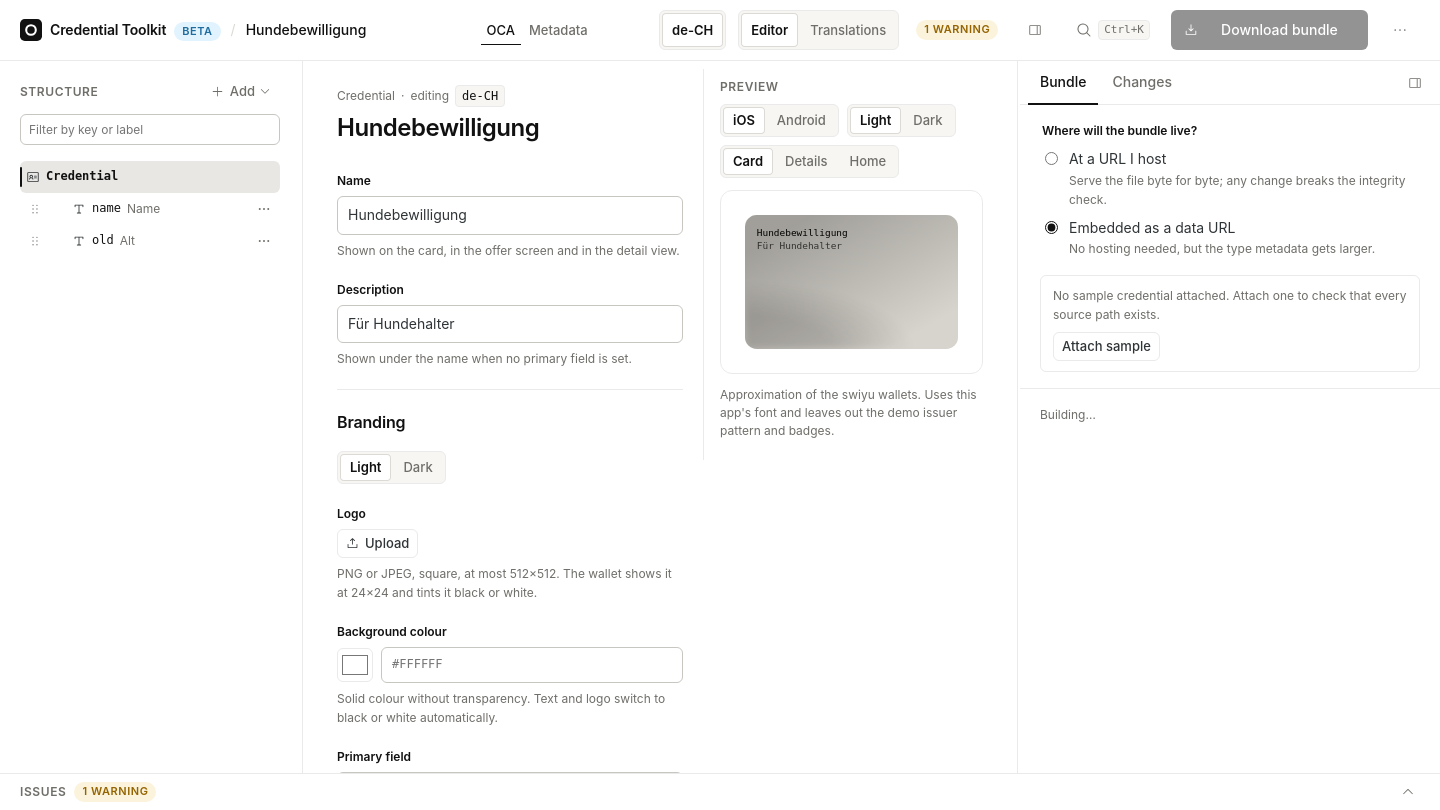
Test: Changes tab › asks for the published bundle when there is none
This screenshot has width=1440, height=810.
Click the tab "Changes": (1142, 83) [1100,61,1184,105]
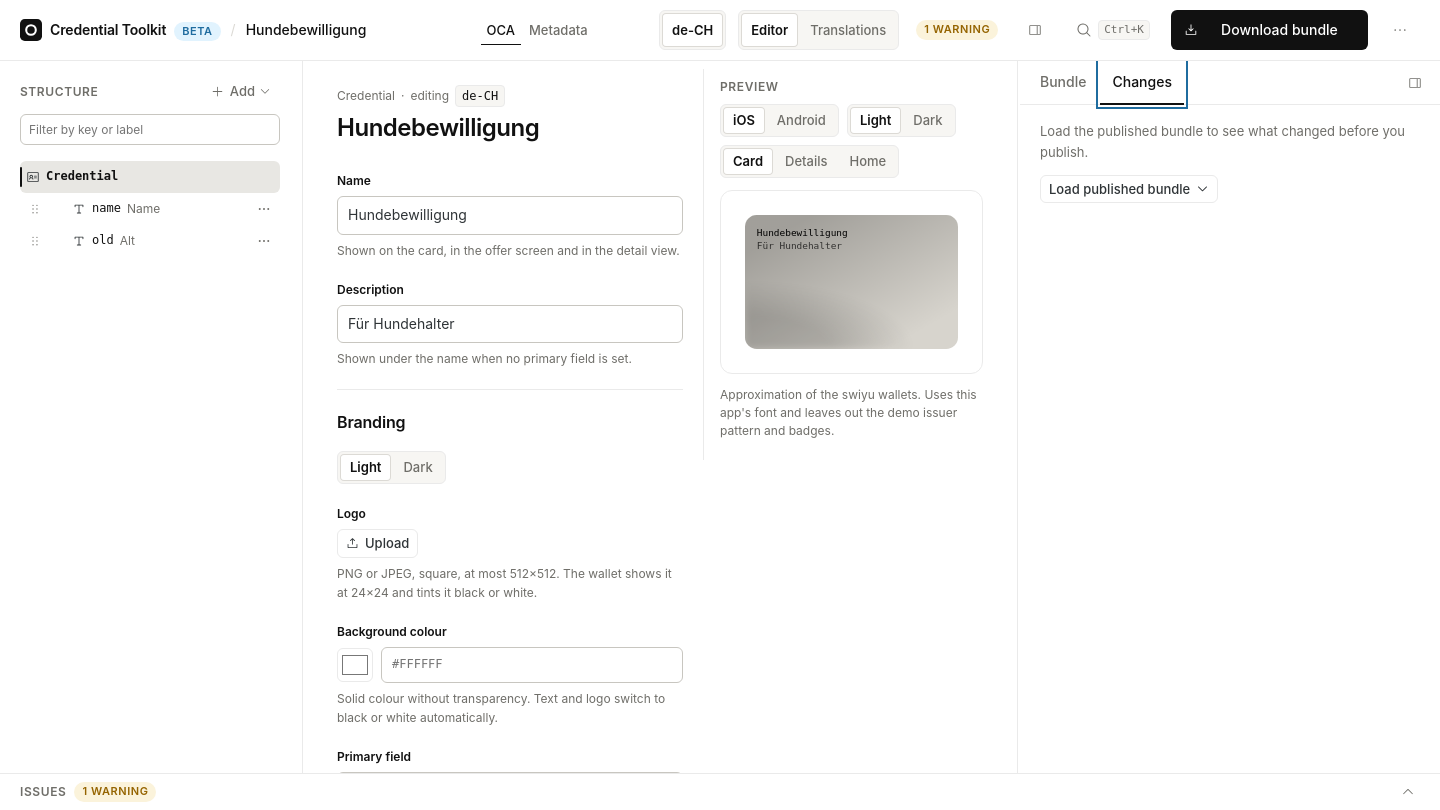
Check: the text "Load the published bundle to see what changed before you publish." is shown, box [1040,121,1420,163]
Click the button "Load published bundle": (1129, 189) [1040,175,1218,203]
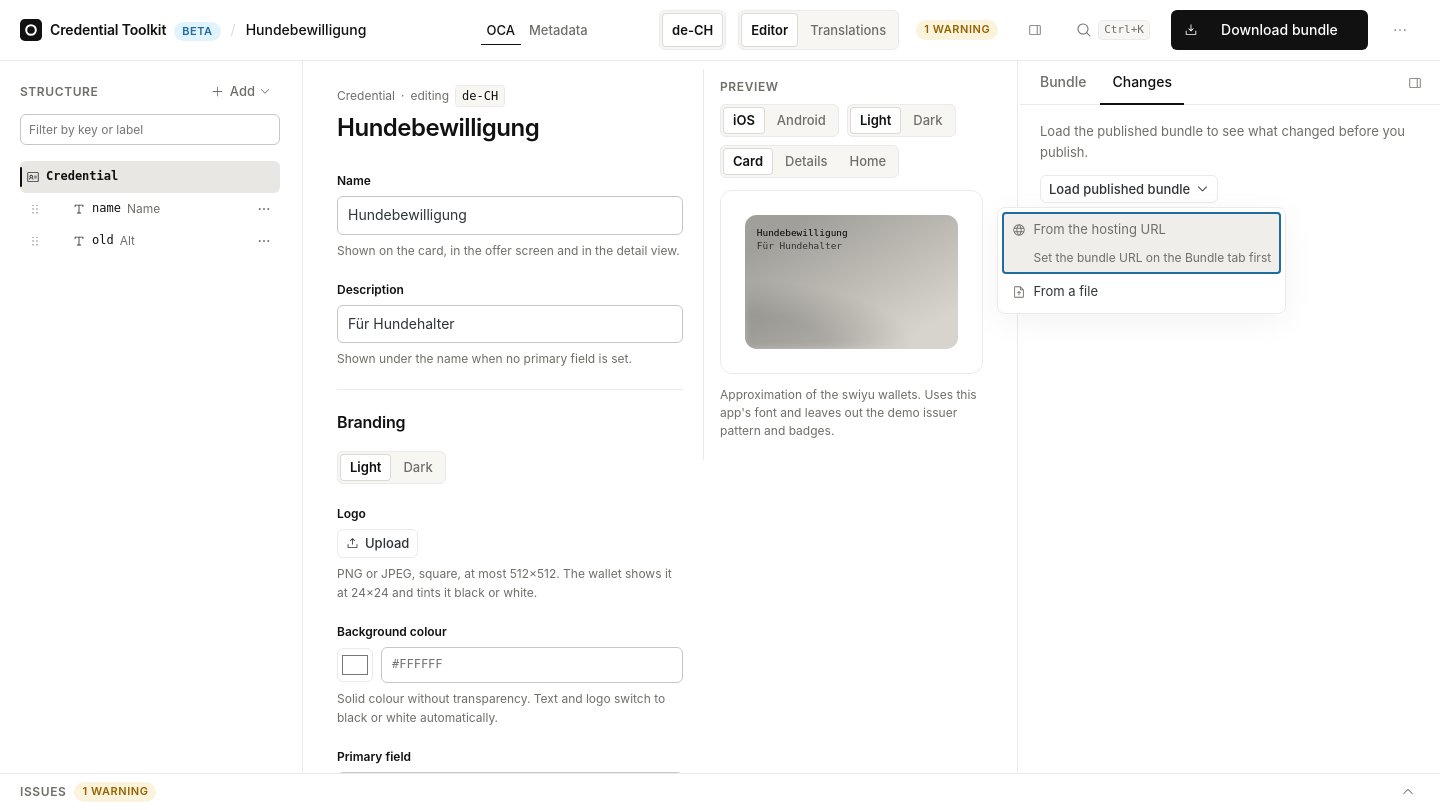
Check: the menu item "From a file" is shown, box [1002,274,1281,309]
